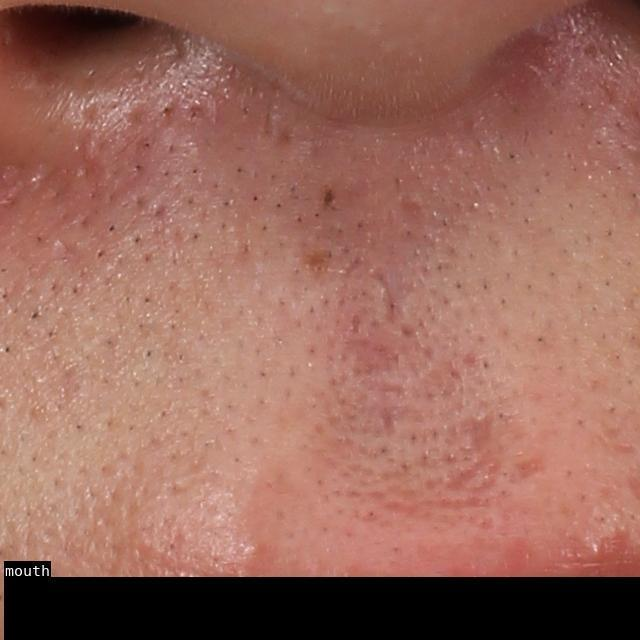atrophic_scar: (351, 323, 408, 376), (372, 268, 407, 317), (399, 194, 428, 224), (381, 406, 399, 435)
nevus: (323, 185, 336, 210)
